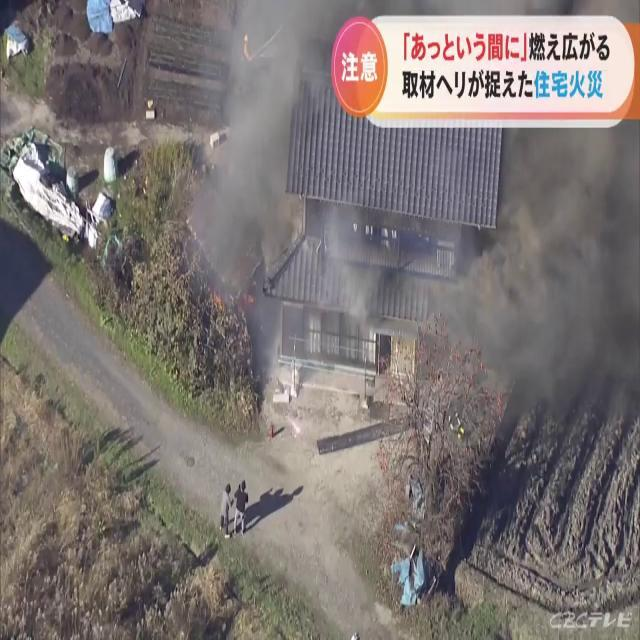Smoke: (465, 120, 640, 494), (188, 1, 324, 352)
